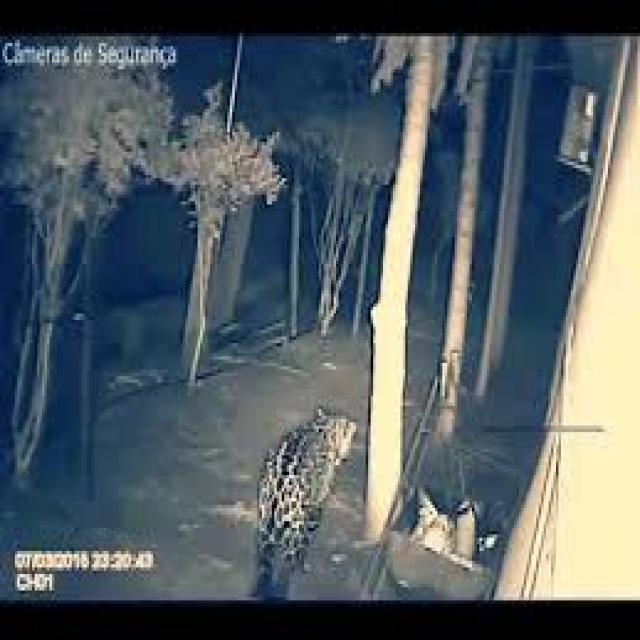Jaguar: (250, 403, 358, 597)
